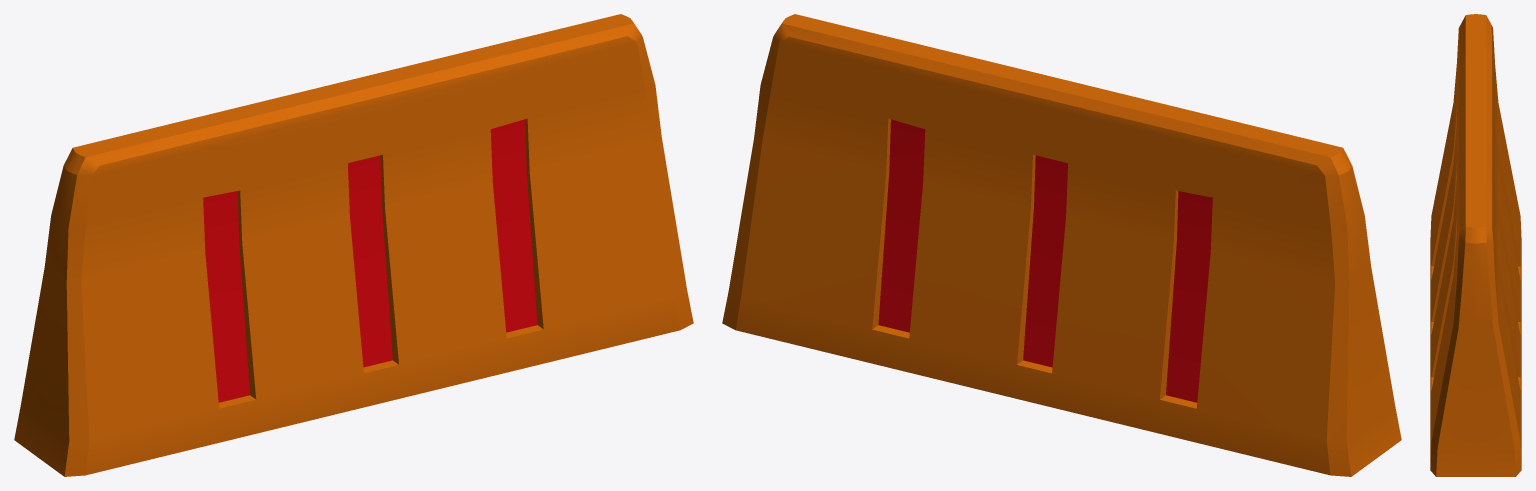
Rendered from Barrier.fbx.
3 renders of one model, left to right at view 1: azimuth 30°, elevation 25°; view 2: azimuth 150°, elevation 25°; view 3: azimuth 270°, elevation 25°, orthographic. The views are drawn at different scales.
Visible parts, largest first — view 1: Barrier1; view 2: Barrier1; view 3: Barrier1.
Boxes of the visible parts, x1=… form: Barrier1: x1=14, y1=14, x2=693, y2=476; Barrier1: x1=722, y1=14, x2=1401, y2=476; Barrier1: x1=1430, y1=14, x2=1521, y2=476.
Size of the model in its own units: 3.15 by 1.42 by 0.501.
